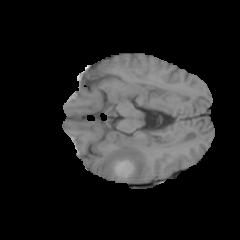glioma: (92, 134, 157, 183)
